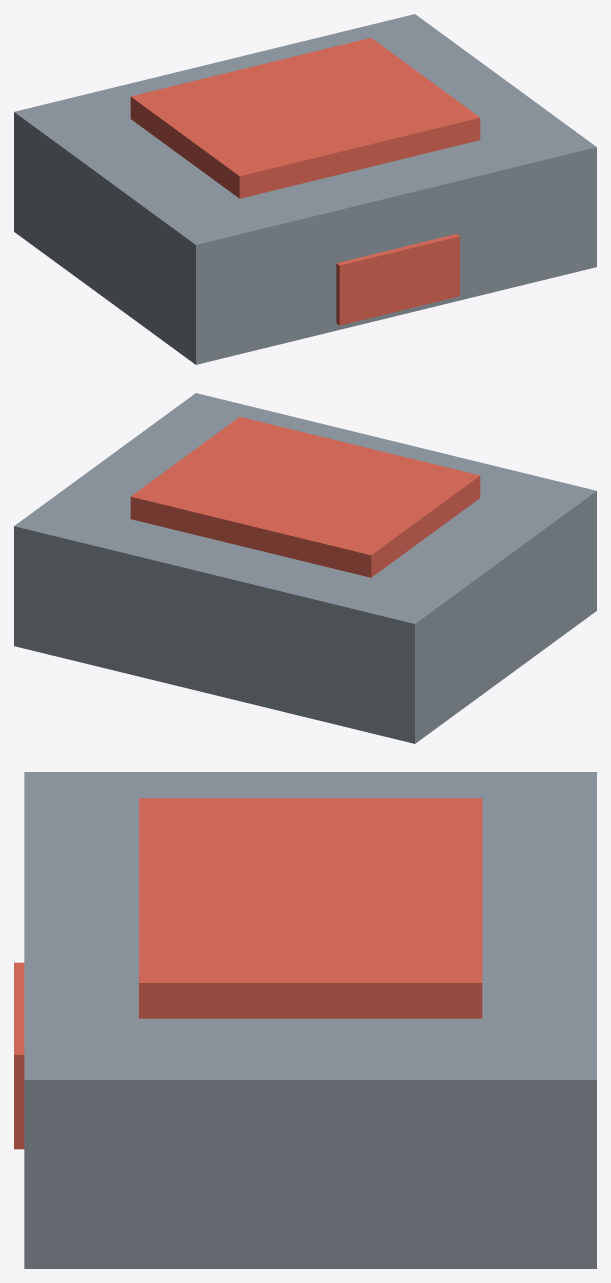
The model's file is SM_Soviet_SU_KorshunGunship_Blockout.fbx.
3 views of the same model, one above another, from view 1: azimuth 30°, elevation 25°; view 2: azimuth 150°, elevation 25°; view 3: azimuth 270°, elevation 25° (orthographic). The views are drawn at different scales.
Parts seen in each view (by area): view 1: MainBuilding, RoofStructure, EntranceGate; view 2: MainBuilding, RoofStructure; view 3: MainBuilding, RoofStructure, EntranceGate.
Boxes of the visible parts, x1,y1,x2,y2 form: MainBuilding: [14, 14, 596, 364]; RoofStructure: [130, 38, 480, 198]; EntranceGate: [336, 234, 459, 325]; MainBuilding: [14, 393, 596, 743]; RoofStructure: [130, 417, 480, 577]; MainBuilding: [24, 772, 596, 1268]; RoofStructure: [139, 798, 482, 1018]; EntranceGate: [14, 962, 24, 1149].
Bounding box in the file's own units: 700 × 238 × 560.
